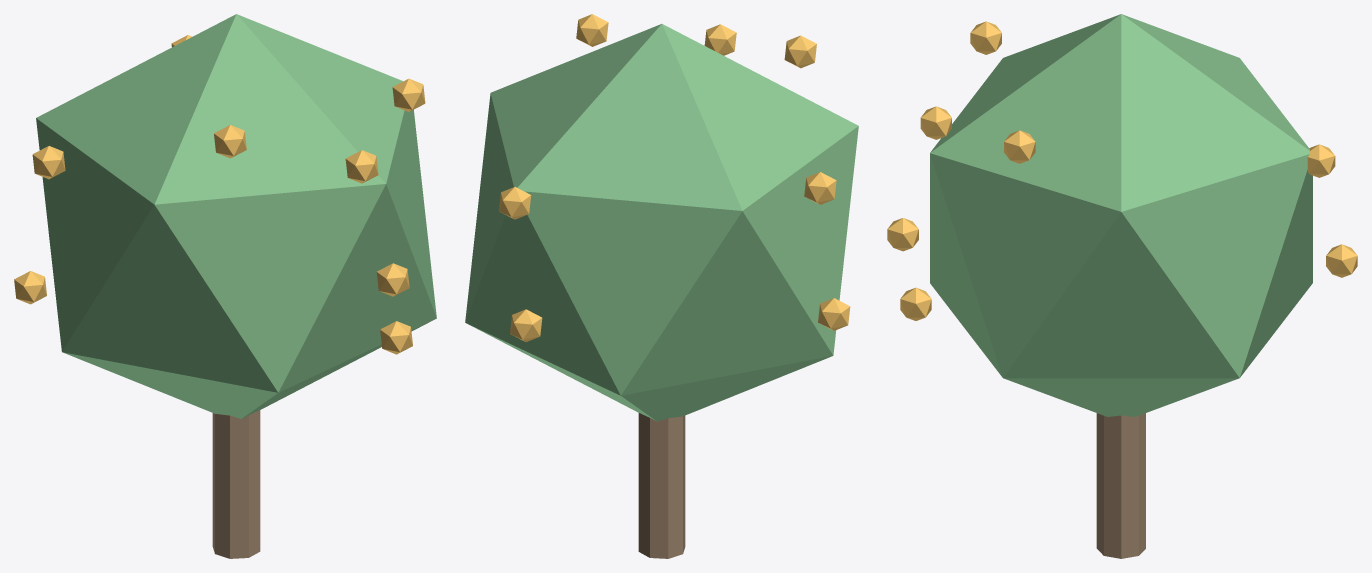
The model's file is Prop_OrangeTree.fbx.
3 views of the same model, side by side, from view 1: azimuth 30°, elevation 25°; view 2: azimuth 150°, elevation 25°; view 3: azimuth 270°, elevation 25° (orthographic).
Parts seen in each view (by area): view 1: Prop_OrangeTree; view 2: Prop_OrangeTree; view 3: Prop_OrangeTree.
Part boxes in pixels (<box>): Prop_OrangeTree: <box>14,14,436,558</box>; Prop_OrangeTree: <box>465,14,858,558</box>; Prop_OrangeTree: <box>887,14,1357,558</box>.
Size of the model in its own units: 2.12 by 2.86 by 2.28.
